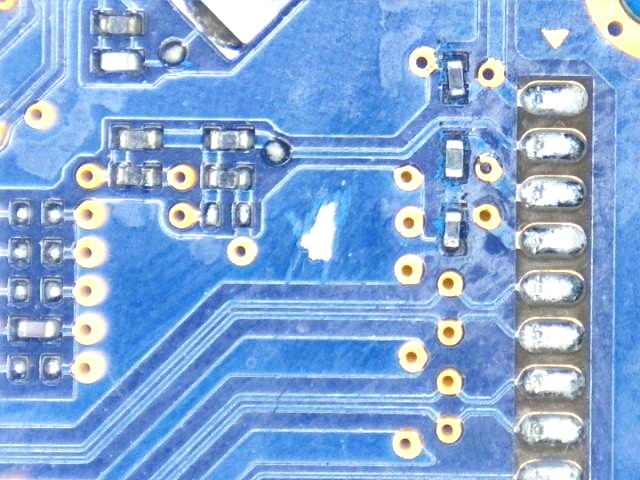pcb_defect: (520, 81, 588, 117), (517, 318, 585, 354), (518, 223, 587, 258), (519, 271, 587, 306), (517, 365, 585, 400), (517, 413, 584, 447), (517, 176, 585, 208), (519, 129, 584, 161), (300, 203, 335, 259), (517, 461, 582, 480)
